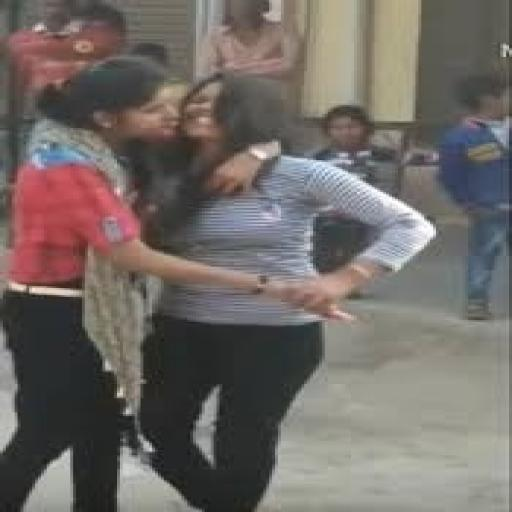dancing: (0, 55, 342, 510)
